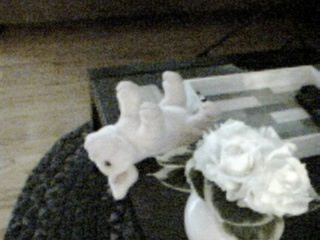piggy: (82, 70, 219, 202)
